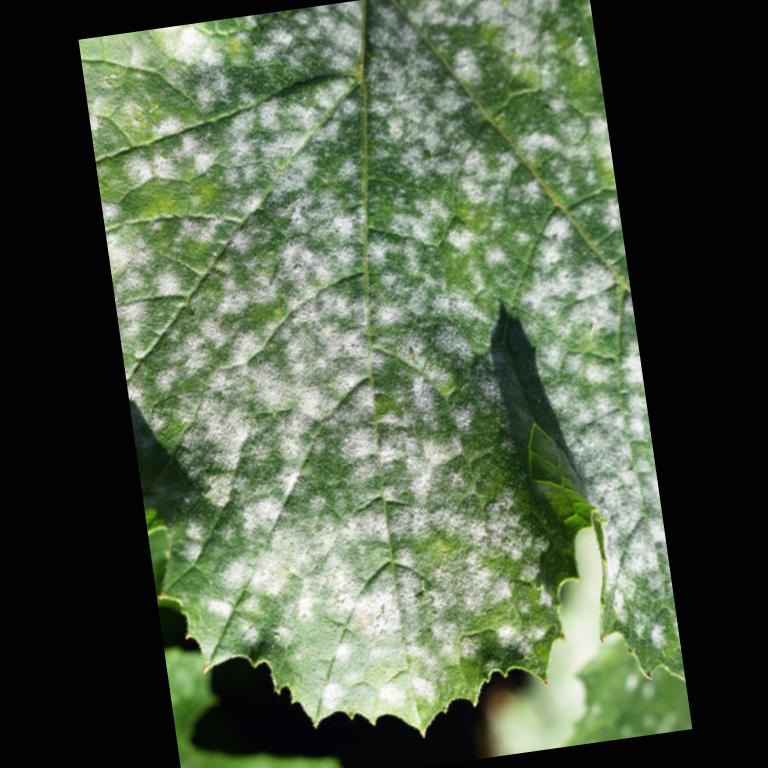powdery-mildew: (317, 0, 615, 340), (204, 362, 490, 649), (150, 49, 346, 358)
